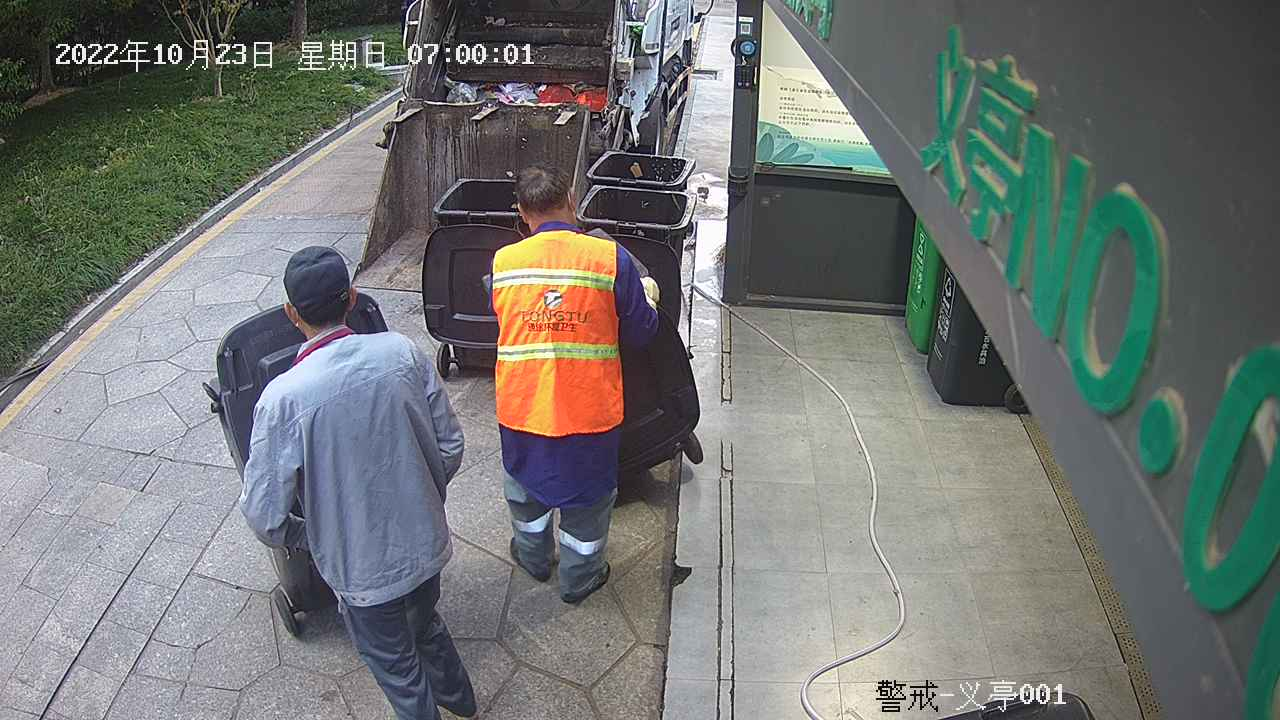worker: (230, 241, 483, 720), (484, 159, 665, 612)
